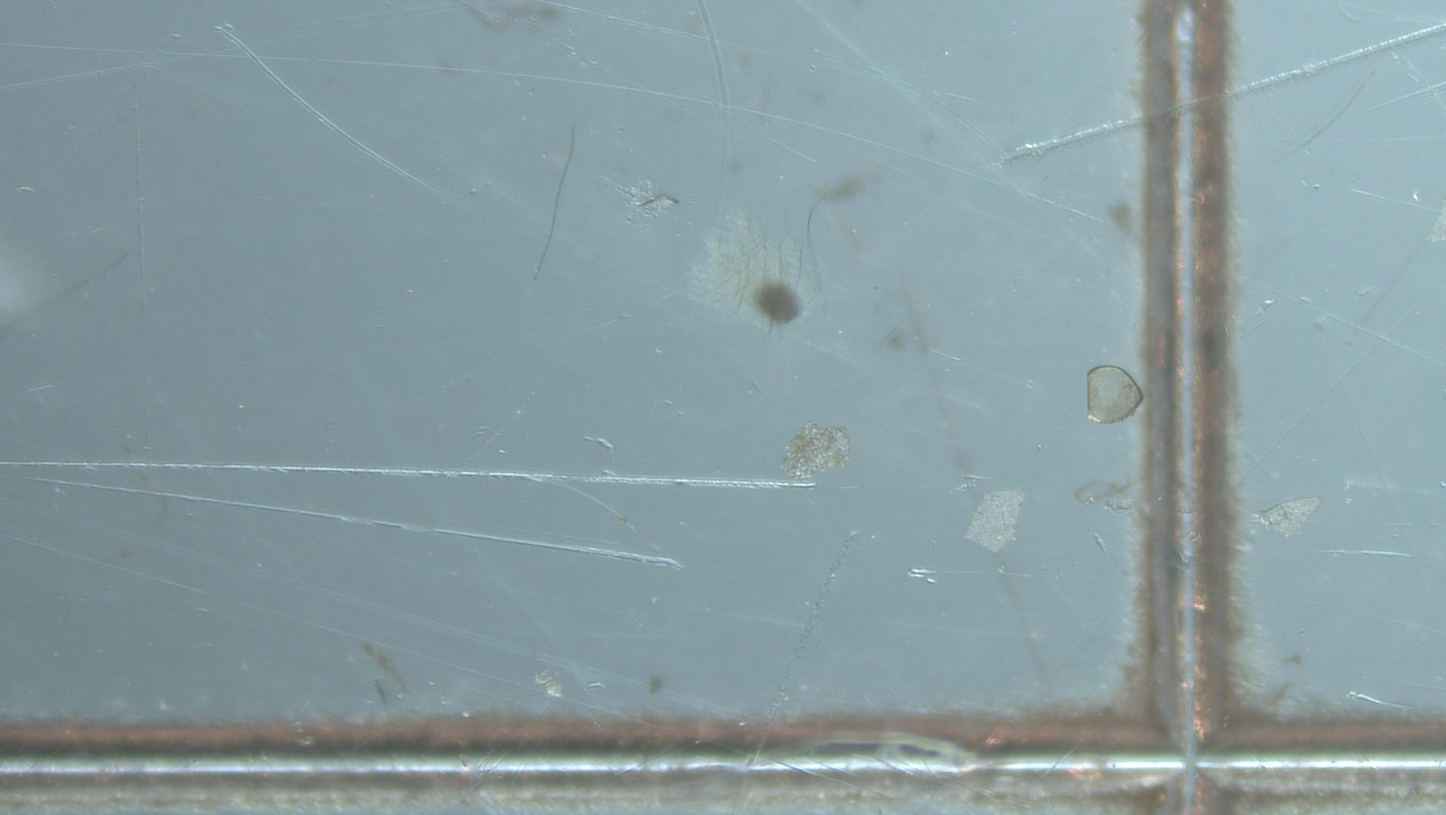dead: (1088, 366, 1143, 423)
